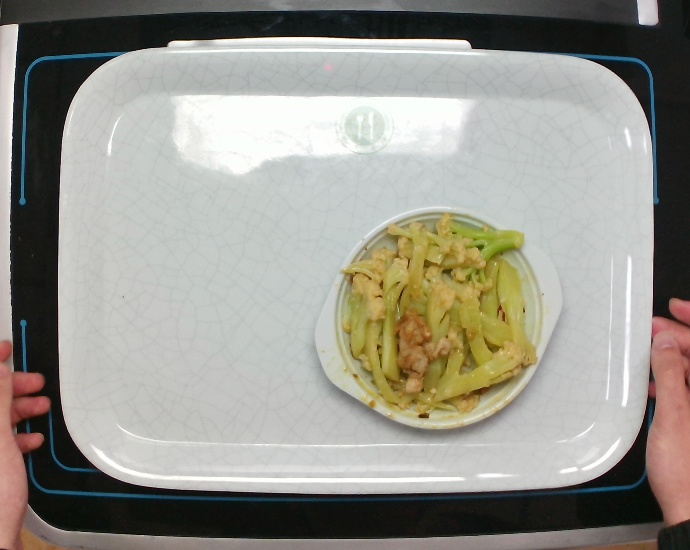JYsf-Shuang_Er_Pan: (312, 204, 565, 432)
